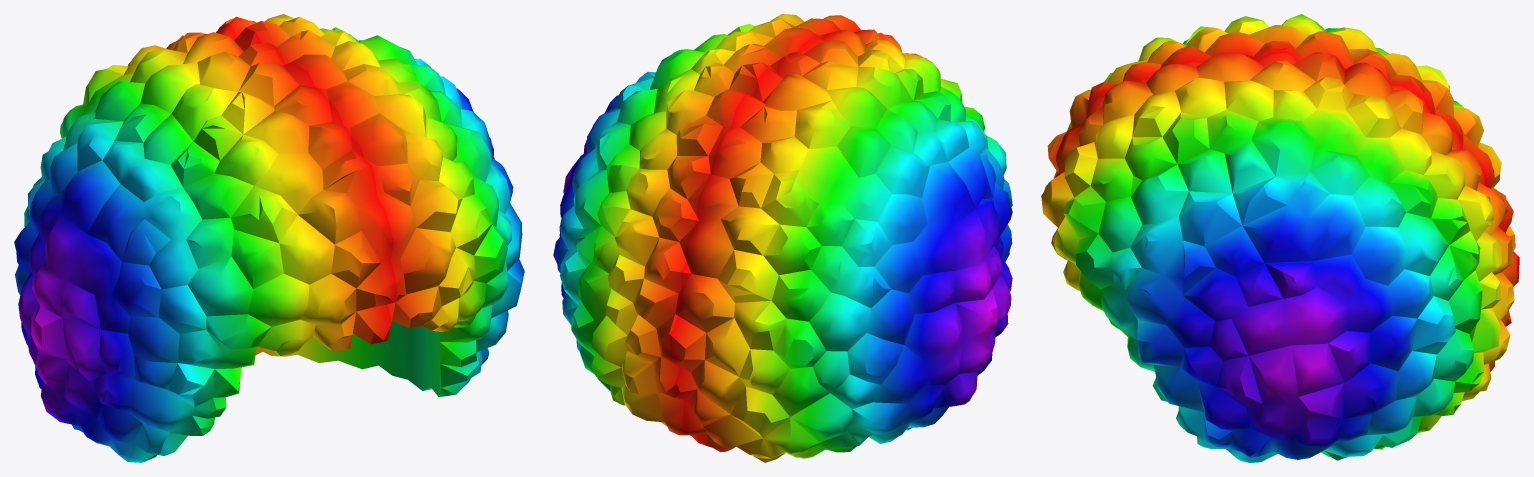
Rendered from clown_wig.glb.
3 views of the same model, side by side, from view 1: azimuth 30°, elevation 25°; view 2: azimuth 150°, elevation 25°; view 3: azimuth 270°, elevation 25° (orthographic). The views are drawn at different scales.
Parts seen in each view (by area): view 1: Object_2; view 2: Object_2; view 3: Object_2.
Part boxes in pixels (x1,y1,x2,y2): Object_2: [14, 14, 524, 462]; Object_2: [553, 14, 1012, 462]; Object_2: [1041, 14, 1519, 462].
Size of the model in its own units: 1.75 by 1.4 by 1.66.
1 material, 1 textured.
